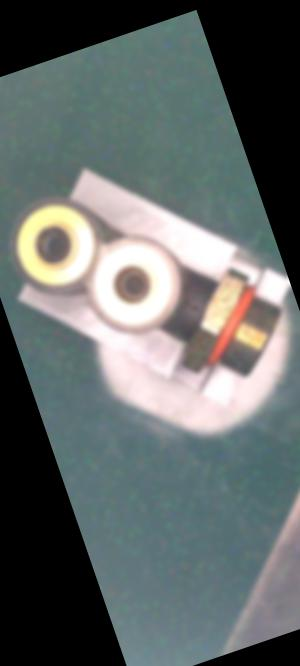craze: (185, 293, 205, 317)
